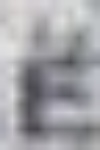YO_RUS: (0, 0, 99, 149)
